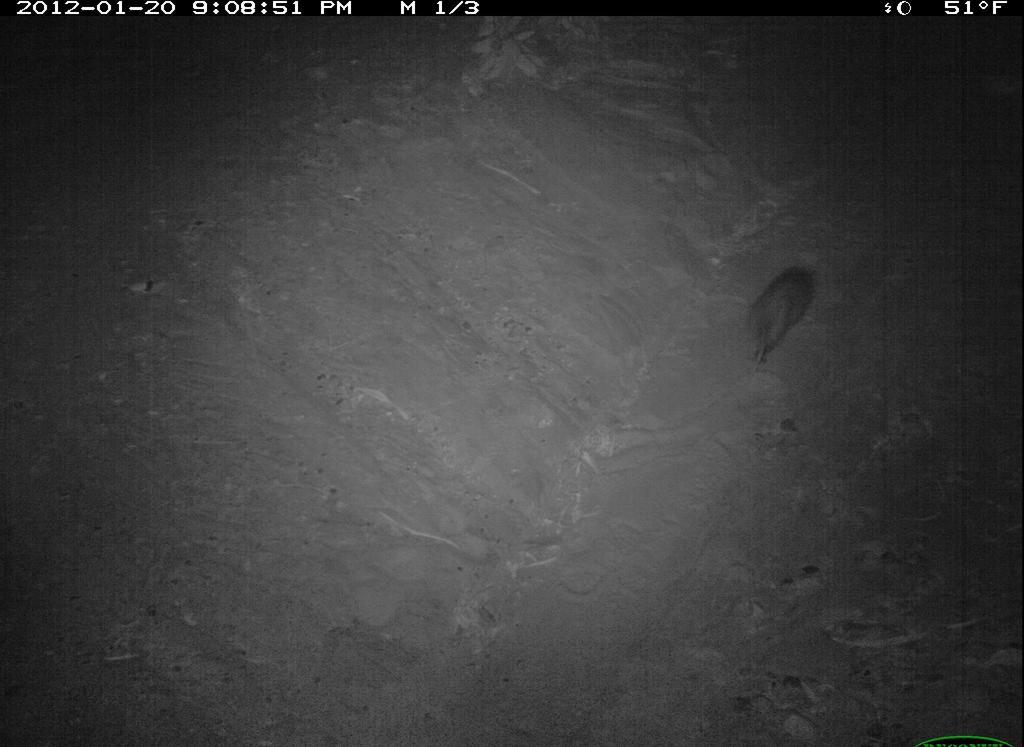opossum: (739, 257, 822, 367)
